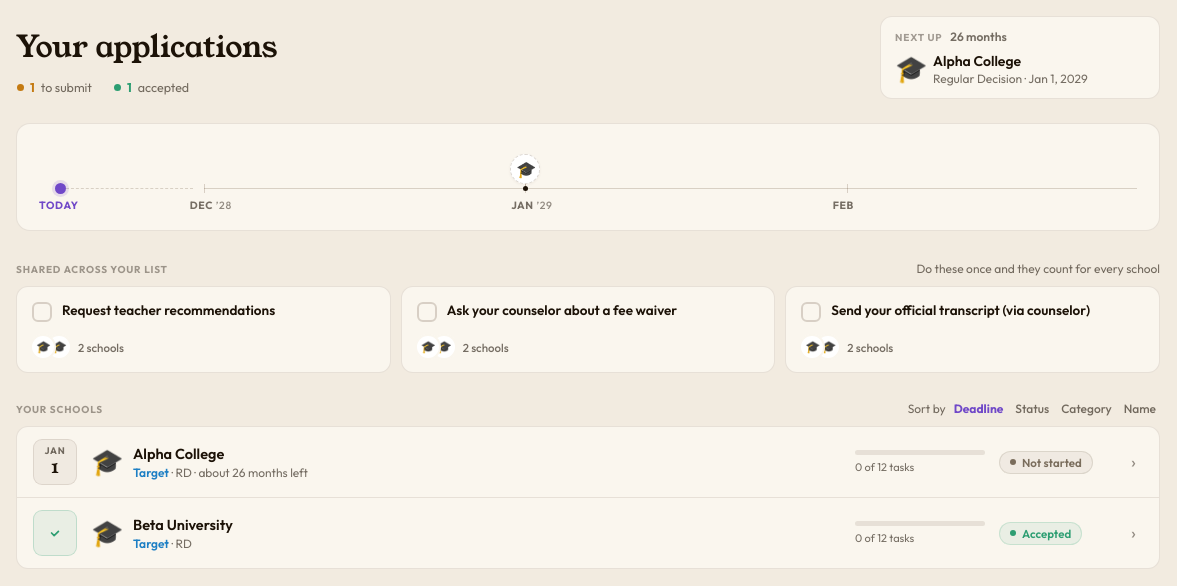
Test case: ApplicationStatusTab › filters the school list from the status strip
Click the button "1 accepted".
click(152, 87)  # box [105,75,198,99]
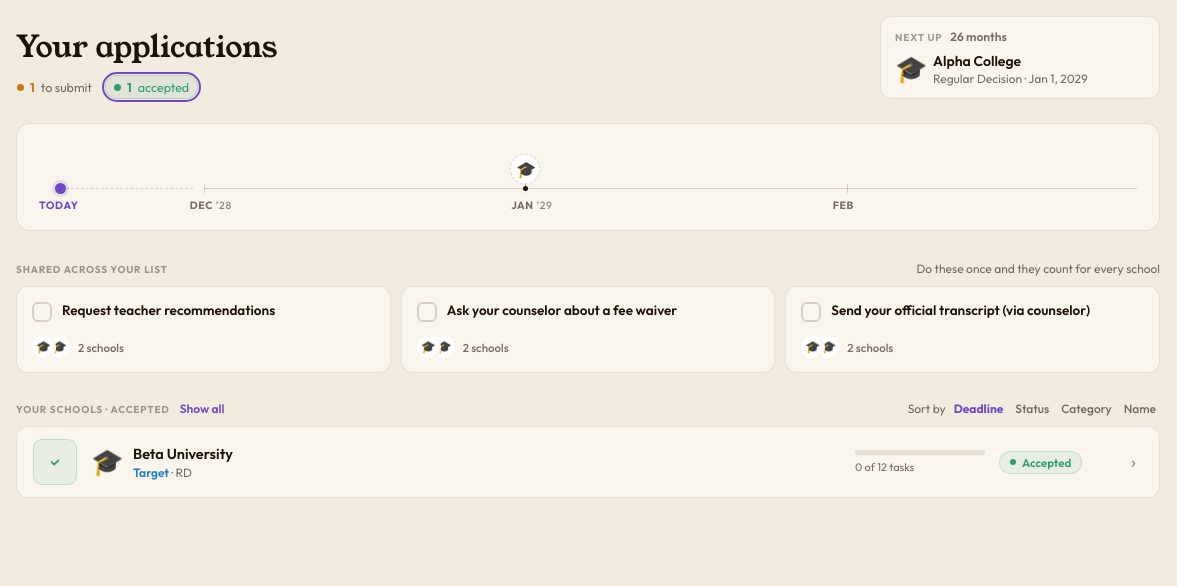
Expected: the button "🎓 Beta University Target · RD 0 of 12 tasks Accepted ›" is shown, [17,427,1159,497]
Click the button "Show all".
click(202, 408)  # box [180,401,224,416]
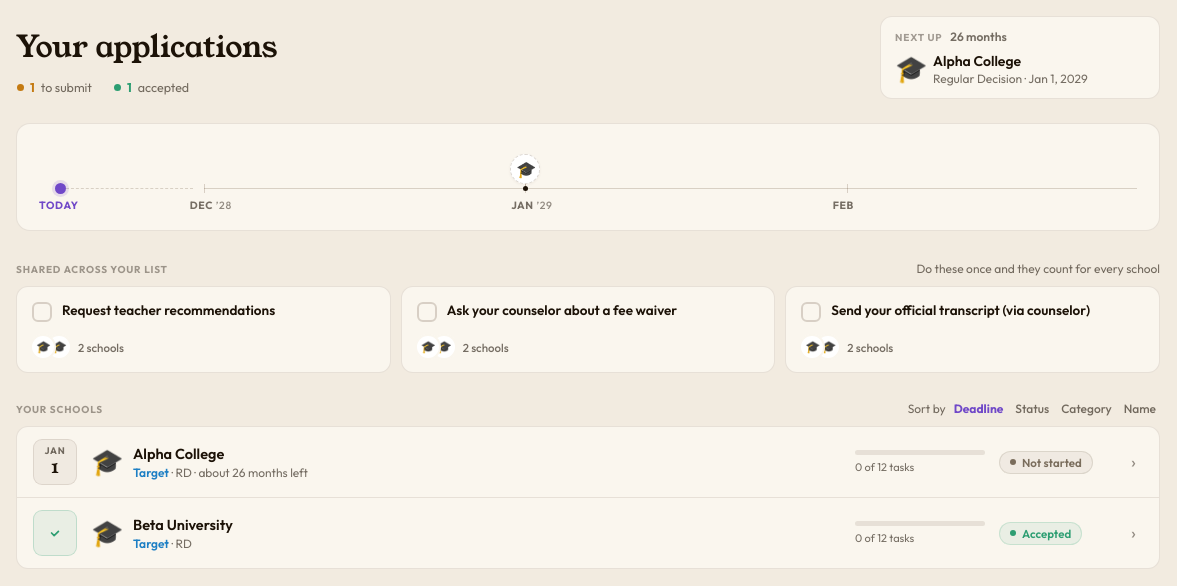
Now the button "Alpha College" is shown, box [17,427,1159,497]
